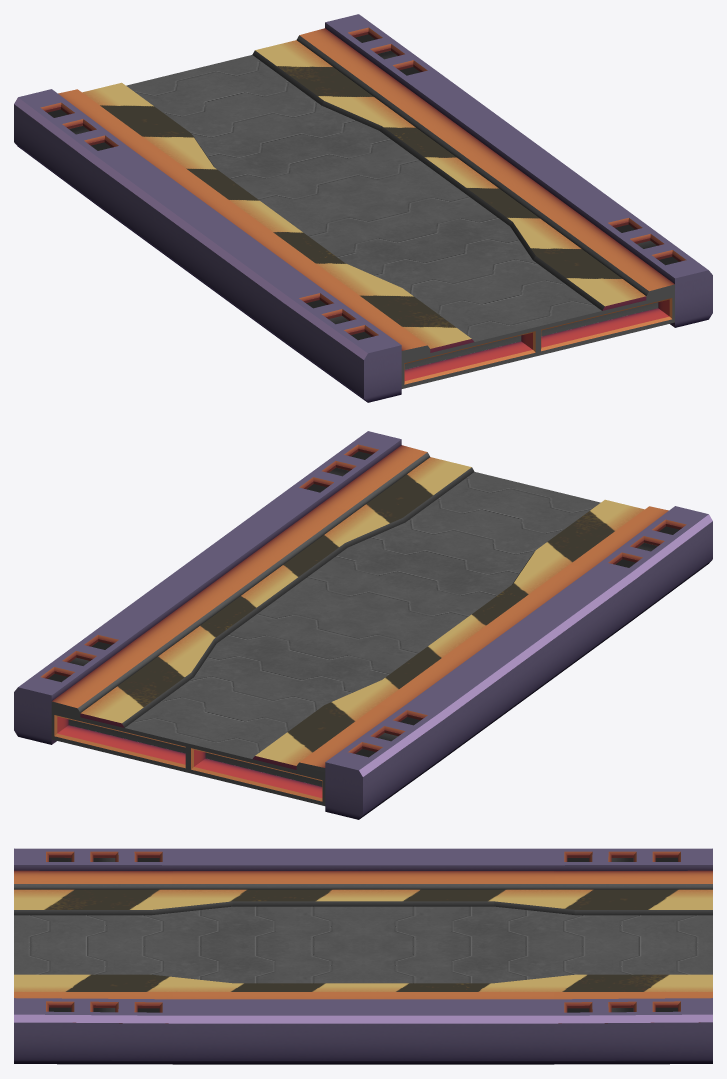
The model's file is Platform_1.glb.
3 views of the same model, one above another, from view 1: azimuth 30°, elevation 25°; view 2: azimuth 150°, elevation 25°; view 3: azimuth 270°, elevation 25° (orthographic).
Visible parts, largest first — view 1: Corridor_floor_2; view 2: Corridor_floor_2; view 3: Corridor_floor_2.
Boxes of the visible parts, x1,y1,x2,y2 form: Corridor_floor_2: (14, 14, 712, 402); Corridor_floor_2: (14, 431, 712, 819); Corridor_floor_2: (14, 848, 712, 1064).
Size of the model in its own units: 1.16 by 0.1562 by 2.
Materials: 1 (1 with a texture image).
